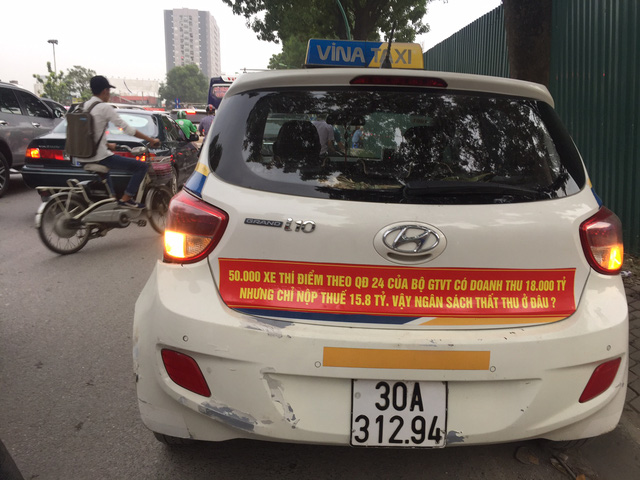number_plate: (352, 380, 444, 448)
